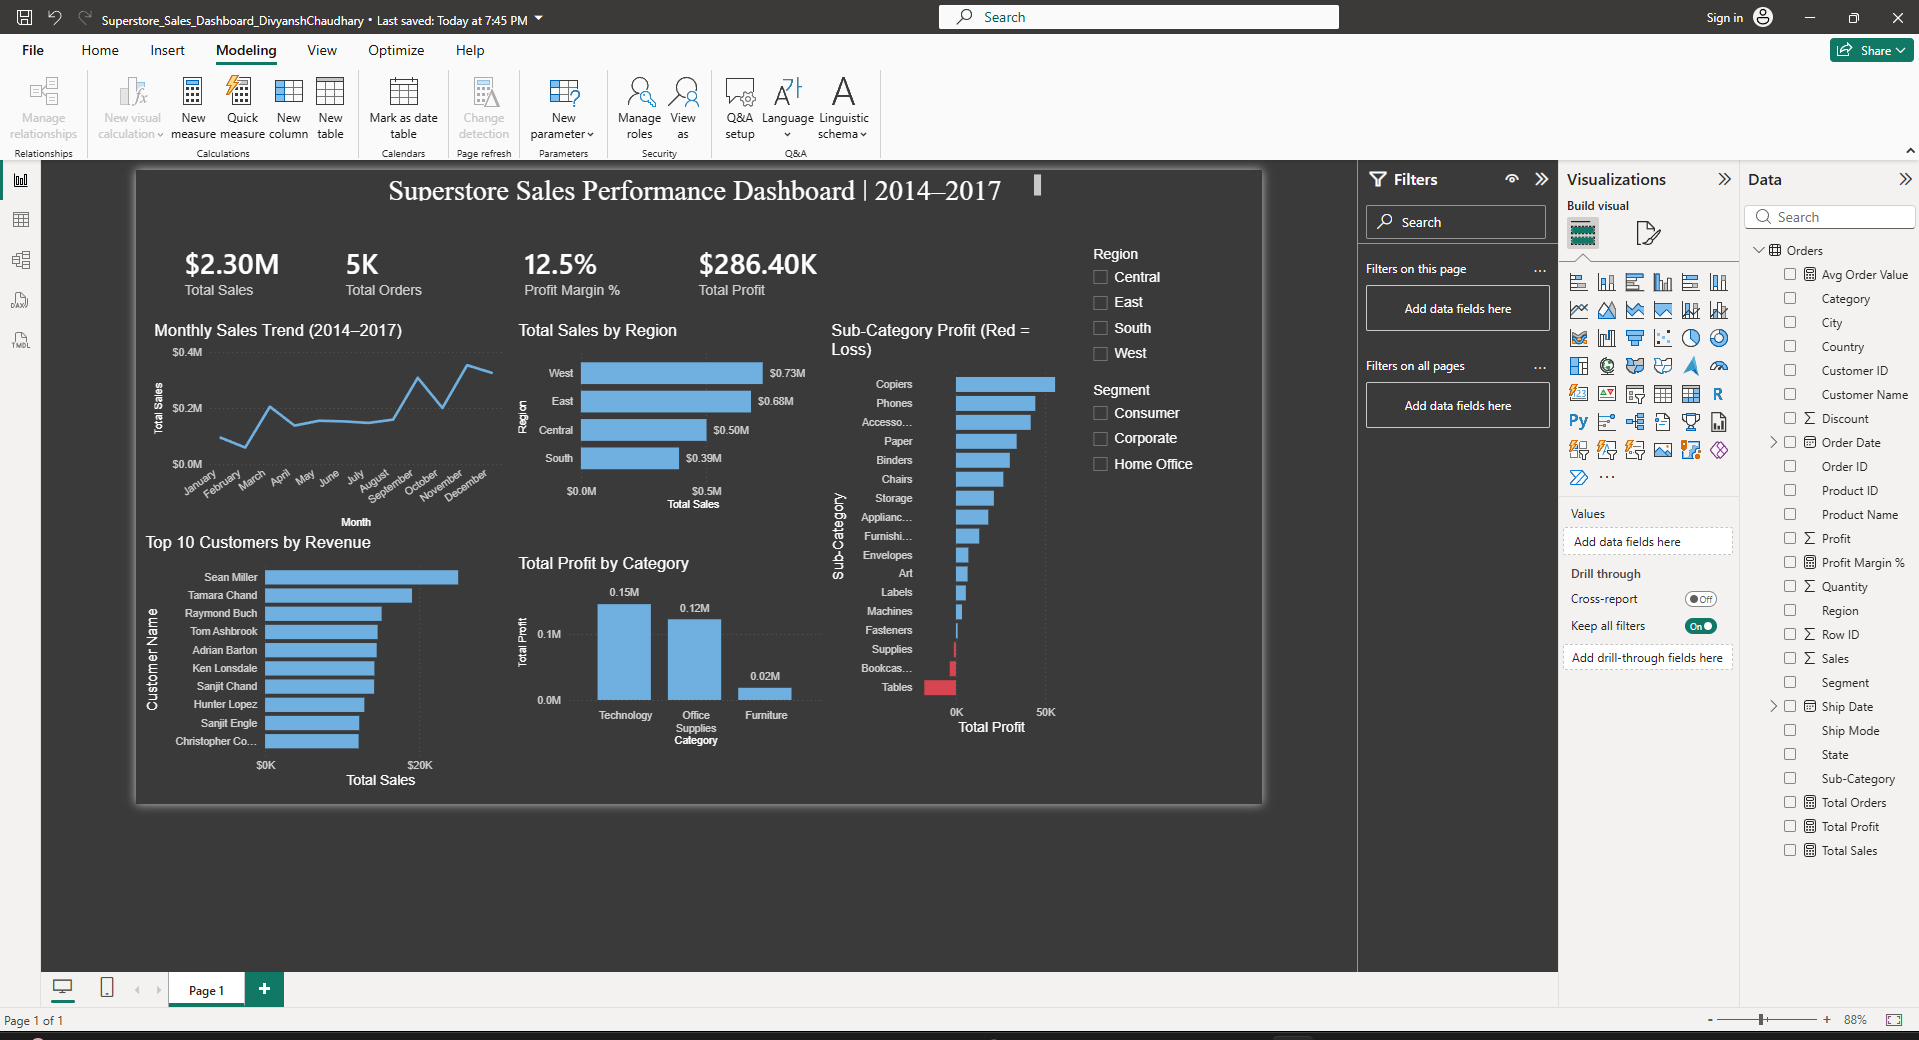

The page's visual inventory and layout, read from the dashboard file:
{"tool":"powerbi","page":{"name":"Page 1","canvas":[1280,720],"ordinal":0},"visuals":[{"type":"cardVisual","fields":{"Data":["Orders.Total Sales"]},"box":[25,55.7,175,115.9],"z":0},{"type":"cardVisual","fields":{"Data":["Orders.Total Profit"]},"box":[609.1,55.7,293.2,115.9],"z":1000},{"type":"cardVisual","fields":{"Data":["Orders.Profit Margin %"]},"box":[411.4,55.7,185.2,115.9],"z":2000},{"type":"cardVisual","fields":{"Data":["Orders.Total Orders"]},"box":[208,55.7,171.6,115.9],"z":3000},{"type":"lineChart","title":"Monthly Sales Trend (2014–2017)","fields":{"Category":["Orders.Order Date.Variation.Date Hierarchy.Month"],"Y":["Orders.Total Sales"]},"box":[15.9,171.6,404.5,240.9],"z":4000},{"type":"clusteredBarChart","fields":{"Category":["Orders.Region"],"Y":["Orders.Total Sales"]},"box":[429.5,171.6,353.4,220.5],"z":5000},{"type":"clusteredColumnChart","fields":{"Category":["Orders.Category"],"Y":["Orders.Total Profit"]},"box":[429.5,436.4,355.7,223.9],"z":6000},{"type":"clusteredBarChart","title":"Top 10 Customers by Revenue","fields":{"Category":["Orders.Customer Name"],"Y":["Orders.Total Sales"]},"box":[5.7,412.5,423.9,294.3],"z":7000},{"type":"clusteredBarChart","title":"Sub-Category Profit (Red = Loss)","fields":{"Category":["Orders.Sub-Category"],"Y":["Orders.Total Profit"]},"box":[785.2,171.6,284.1,475],"z":8000},{"type":"slicer","fields":{"Values":["Orders.Segment"]},"box":[1075,236.8,189.5,448.7],"z":9000},{"type":"slicer","fields":{"Values":["Orders.Region"]},"box":[1075,81.6,205.3,155.3],"z":10000},{"type":"textbox","box":[245,0,788.3,40],"z":11000}]}

Visuals, with their boxes on the page's 1280x720 design canvas (x1, y1, x2, y2). These are canvas units, not pixel positions in the 1919x1040 screenshot, which may show the page scaled, cropped or inside an application window:
cardVisual - Orders.Total Sales: <region>25, 56, 200, 172</region>
cardVisual - Orders.Total Profit: <region>609, 56, 902, 172</region>
cardVisual - Orders.Profit Margin %: <region>411, 56, 597, 172</region>
cardVisual - Orders.Total Orders: <region>208, 56, 380, 172</region>
"Monthly Sales Trend (2014–2017)" lineChart: <region>16, 172, 420, 412</region>
clusteredBarChart - Orders.Region x Orders.Total Sales: <region>430, 172, 783, 392</region>
clusteredColumnChart - Orders.Category x Orders.Total Profit: <region>430, 436, 785, 660</region>
"Top 10 Customers by Revenue" clusteredBarChart: <region>6, 412, 430, 707</region>
"Sub-Category Profit (Red = Loss)" clusteredBarChart: <region>785, 172, 1069, 647</region>
slicer - Orders.Segment: <region>1075, 237, 1264, 686</region>
slicer - Orders.Region: <region>1075, 82, 1280, 237</region>
textbox: <region>245, 0, 1033, 40</region>
